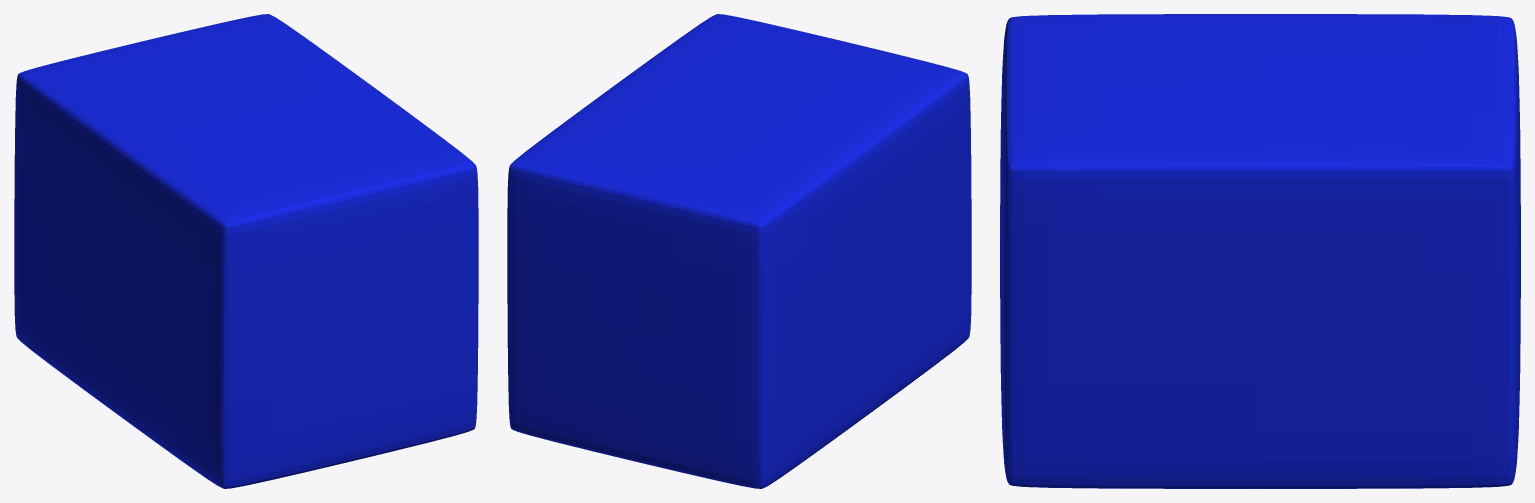
The model's file is PTvideo028_blue 1.fbx.
3 renders of one model, left to right at view 1: azimuth 30°, elevation 25°; view 2: azimuth 150°, elevation 25°; view 3: azimuth 270°, elevation 25°, orthographic. The views are drawn at different scales.
Parts seen in each view (by area): view 1: Cube3х3.001; view 2: Cube3х3.001; view 3: Cube3х3.001.
Part boxes in pixels (box(x1,y1,x2,y2)): Cube3х3.001: box(14, 14, 478, 488); Cube3х3.001: box(507, 14, 971, 488); Cube3х3.001: box(1000, 14, 1520, 488).
Bounding box in the file's own units: 36.84 × 36.84 × 51.86.
